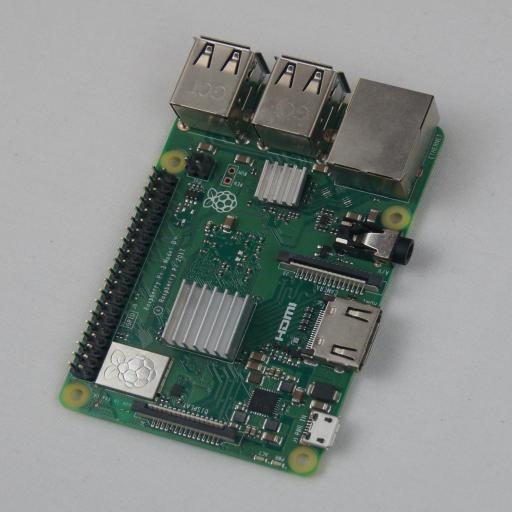Raspberry Pi 3 B-: (64, 36, 445, 476)
